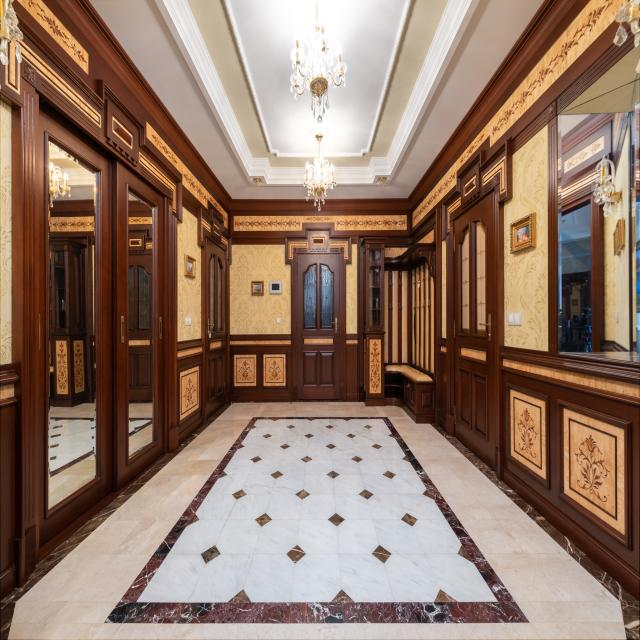floor: (0, 399, 640, 640), (48, 402, 96, 510), (129, 404, 153, 457)
wall: (0, 0, 232, 604), (410, 0, 640, 601), (230, 211, 411, 402), (365, 263, 410, 406), (48, 169, 95, 239), (51, 334, 72, 407), (128, 194, 153, 255), (69, 333, 87, 406)
